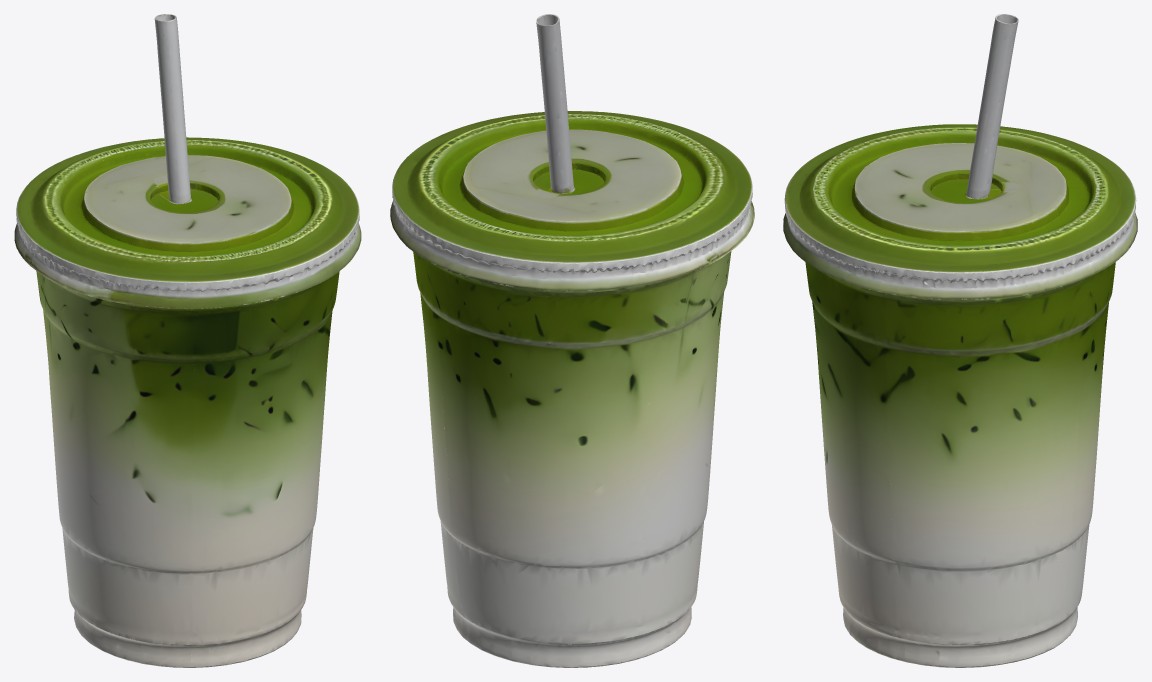
The picture shows the model from 3 angles, left to right: view 1: azimuth 30°, elevation 25°; view 2: azimuth 150°, elevation 25°; view 3: azimuth 270°, elevation 25°; orthographic projection. The views are drawn at different scales.
Parts seen in each view (by area): view 1: Matcha latte cup; view 2: Matcha latte cup; view 3: Matcha latte cup.
Boxes of the visible parts, x1,y1,x2,y2 form: Matcha latte cup: (14,14,361,667); Matcha latte cup: (390,14,754,667); Matcha latte cup: (783,14,1137,667).
Size of the model in its own units: 0.5315 by 1 by 0.5325.
Materials: 1 (1 with a texture image).
